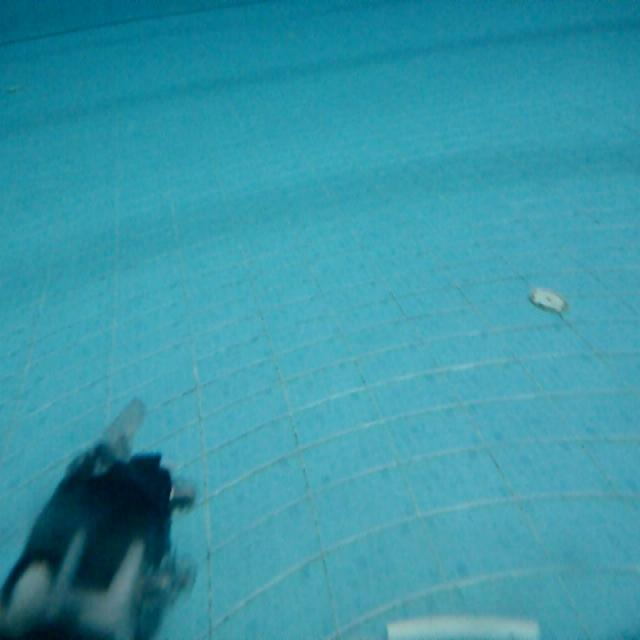Cube: (382, 609, 544, 639)
